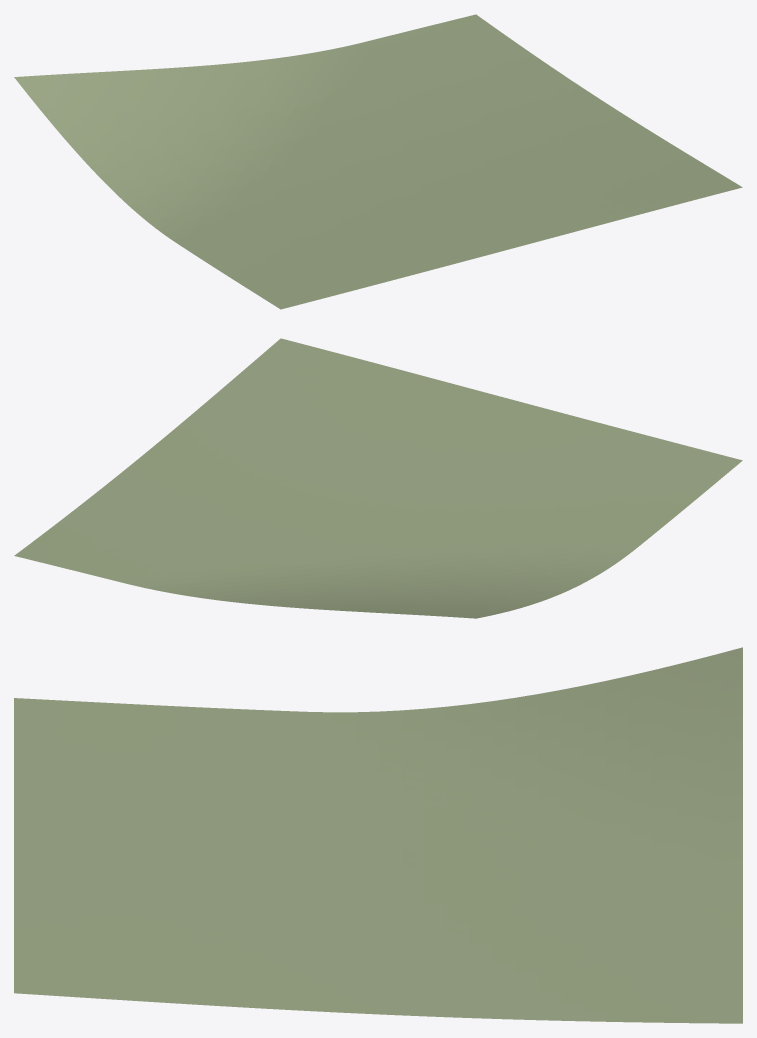
File: desert-21-21.glb
The picture shows the model from 3 angles, top to bottom: view 1: azimuth 30°, elevation 25°; view 2: azimuth 150°, elevation 25°; view 3: azimuth 270°, elevation 25°; orthographic projection. The views are drawn at different scales.
Visible parts, largest first — view 1: desert-21-21; view 2: desert-21-21; view 3: desert-21-21.
Boxes of the visible parts, x1,y1,x2,y2 form: desert-21-21: (14,14,742,309); desert-21-21: (14,338,742,618); desert-21-21: (14,647,742,1023).
Bounding box in the file's own units: 512 × 53.41 × 512.
